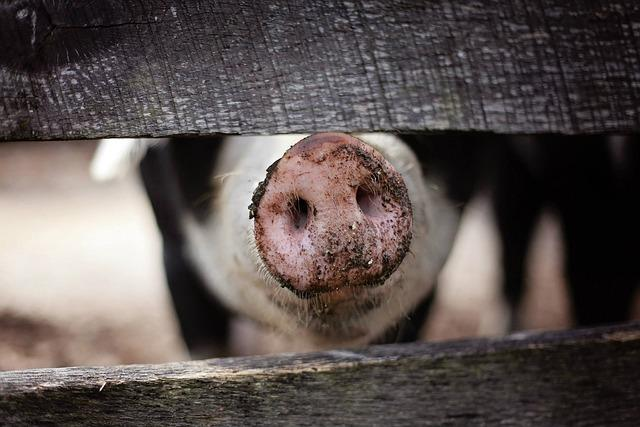Non_Gorille: (126, 86, 589, 348)
